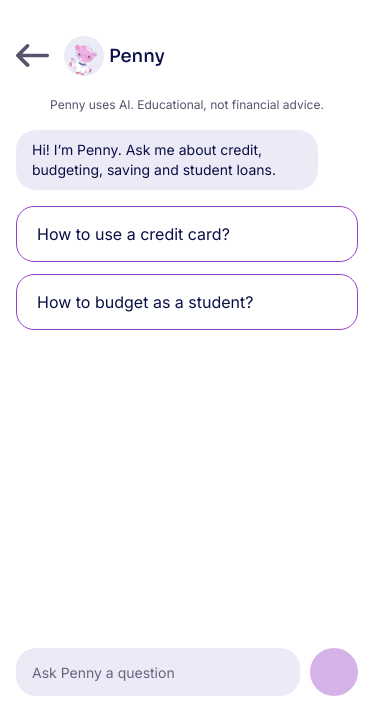
it: PennyChat › greets with two questions when opened with nothing, and a tapped one answers at once
Expected: the element "Penny" shows "Hi! I’m Penny.", [32,141,276,178]
Click the button "How to use a credit card?". click: coordinates (187, 234)
box: [16,206,358,262]
(page scrolled)
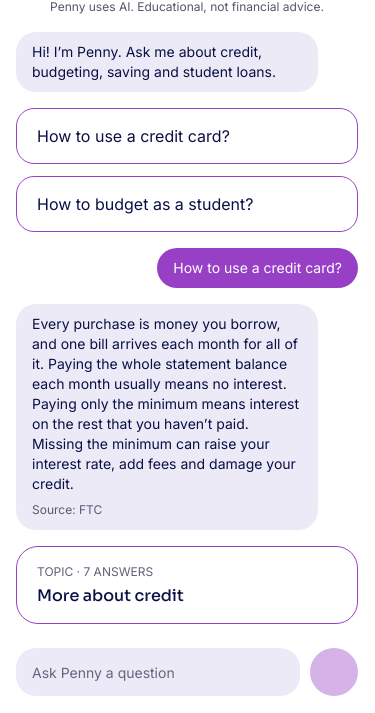
Expected: the element named "Penny" shows "Every purchase is money you borrow, and one bill arrives each month for all of it. Paying the whole statement balance each month usually means no interest. Payi", [32,315,299,492]
